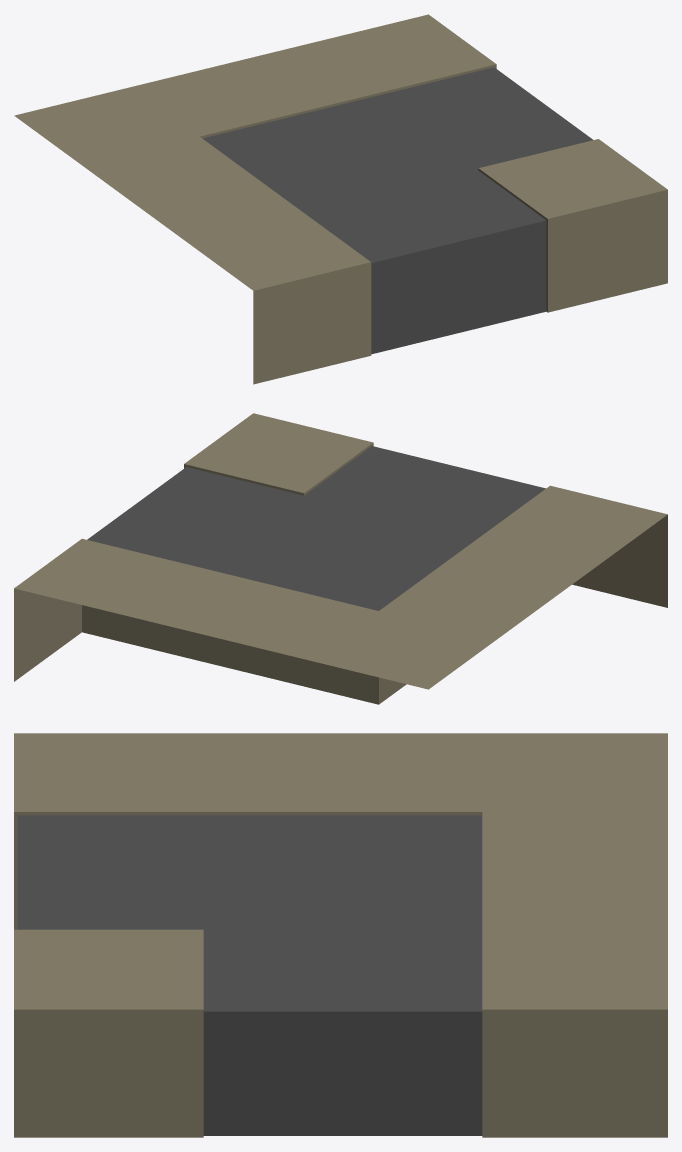
File: CalleElevada.fbx
The picture shows the model from 3 angles, top to bottom: view 1: azimuth 30°, elevation 25°; view 2: azimuth 150°, elevation 25°; view 3: azimuth 270°, elevation 25°; orthographic projection. The views are drawn at different scales.
Visible parts, largest first — view 1: Cube.006; view 2: Cube.006; view 3: Cube.006.
Boxes of the visible parts, x1,y1,x2,y2 form: Cube.006: [14, 14, 667, 384]; Cube.006: [14, 413, 667, 704]; Cube.006: [14, 733, 667, 1137].
Bounding box in the file's own units: 3520 × 760 × 3520.
